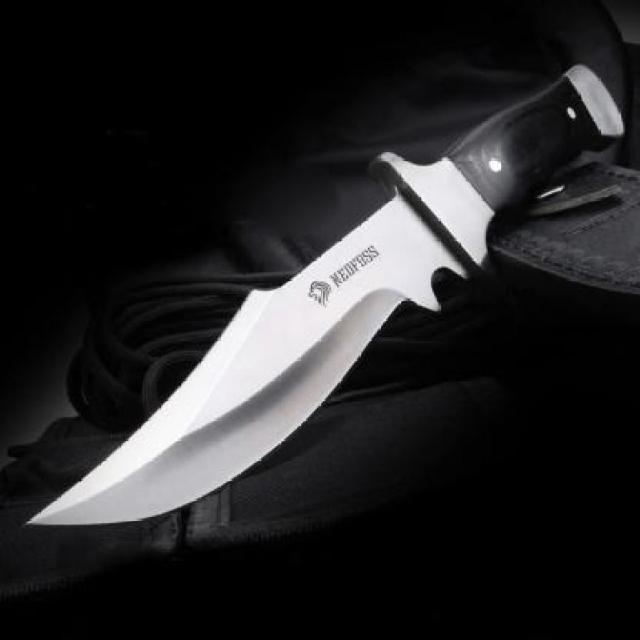-: (0, 136, 486, 599)
